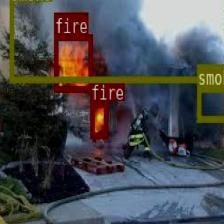fire: (54, 34, 92, 92), (90, 100, 107, 137)
smoke: (9, 0, 224, 80), (196, 85, 224, 120)
